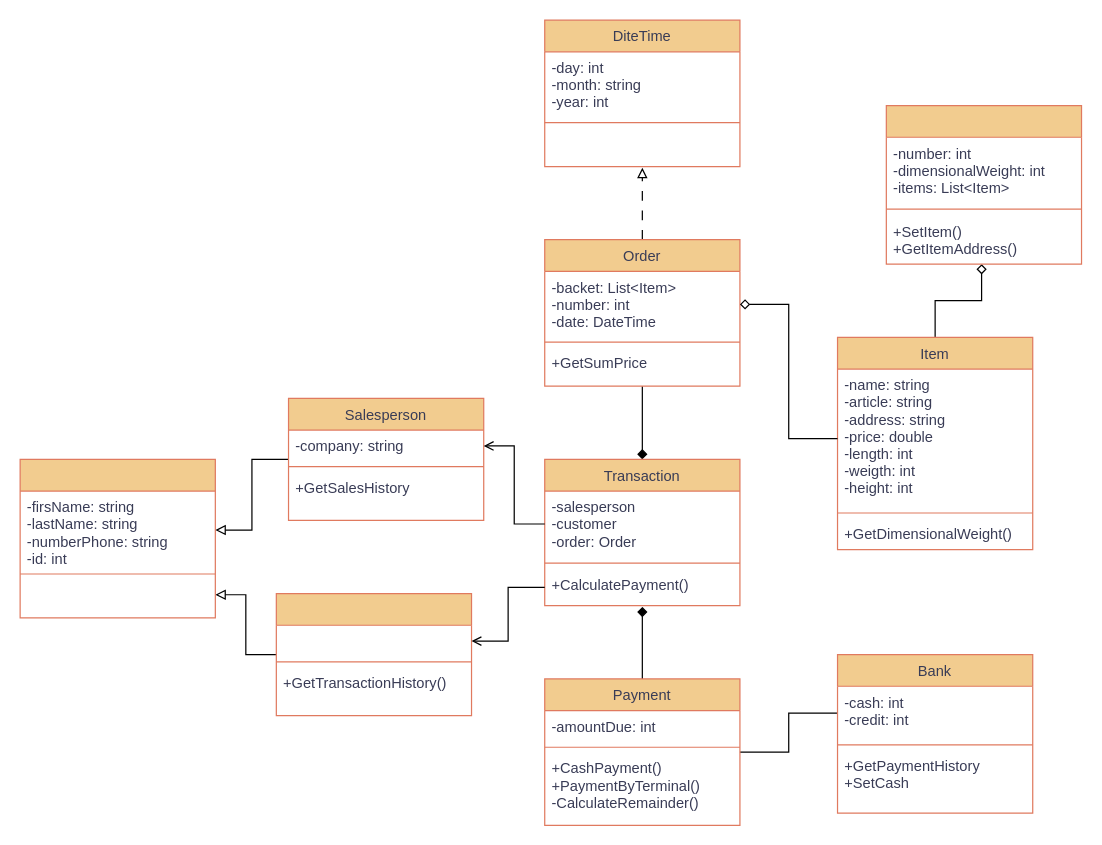
Image size: 1102x845. Some labels were removed from this diagram. The box of each missing label's shape, as (x1, y1, x2, y2) in pixels:
Customer: (275, 592, 472, 716)
Person: (19, 458, 215, 618)
Shelf: (885, 104, 1082, 264)
